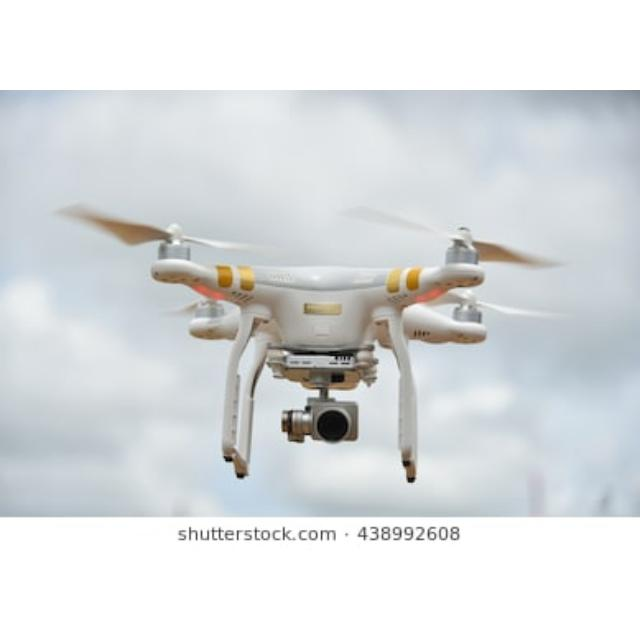Drones: (103, 215, 505, 487)
